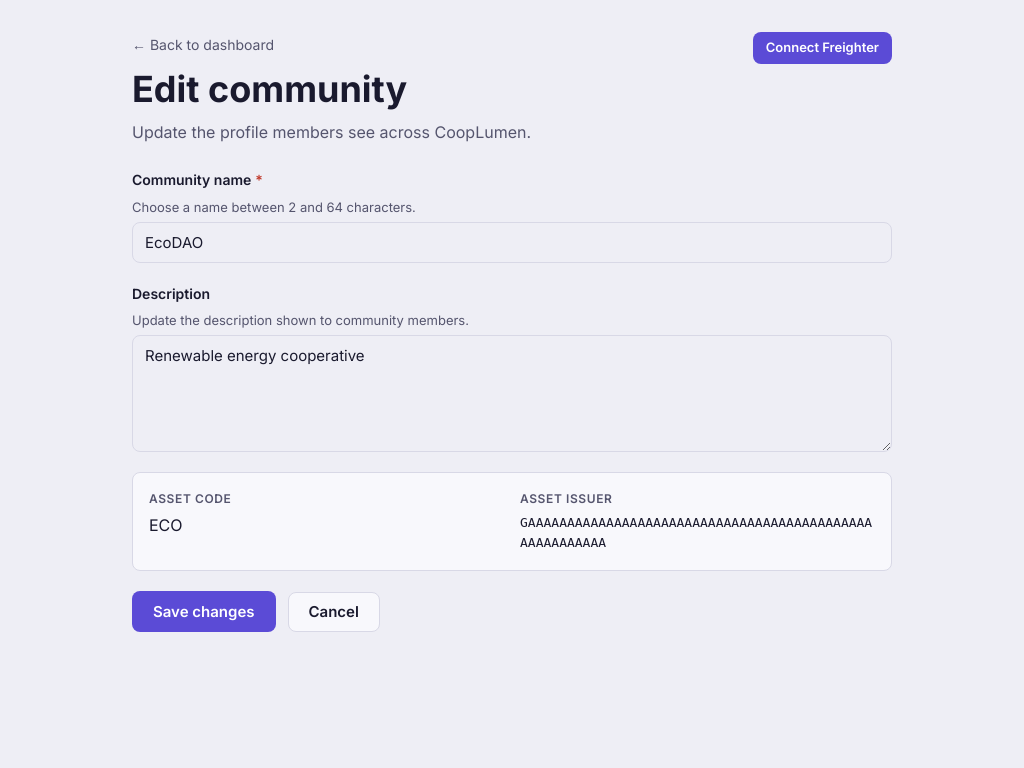
EditCommunityPageClient › loads the nested community response and saves changes through the route id
Replace the text in the field labelled "Community name*" with "EcoDAO 2". click: (512, 242)
box: x1=132 y1=222 x2=892 y2=263
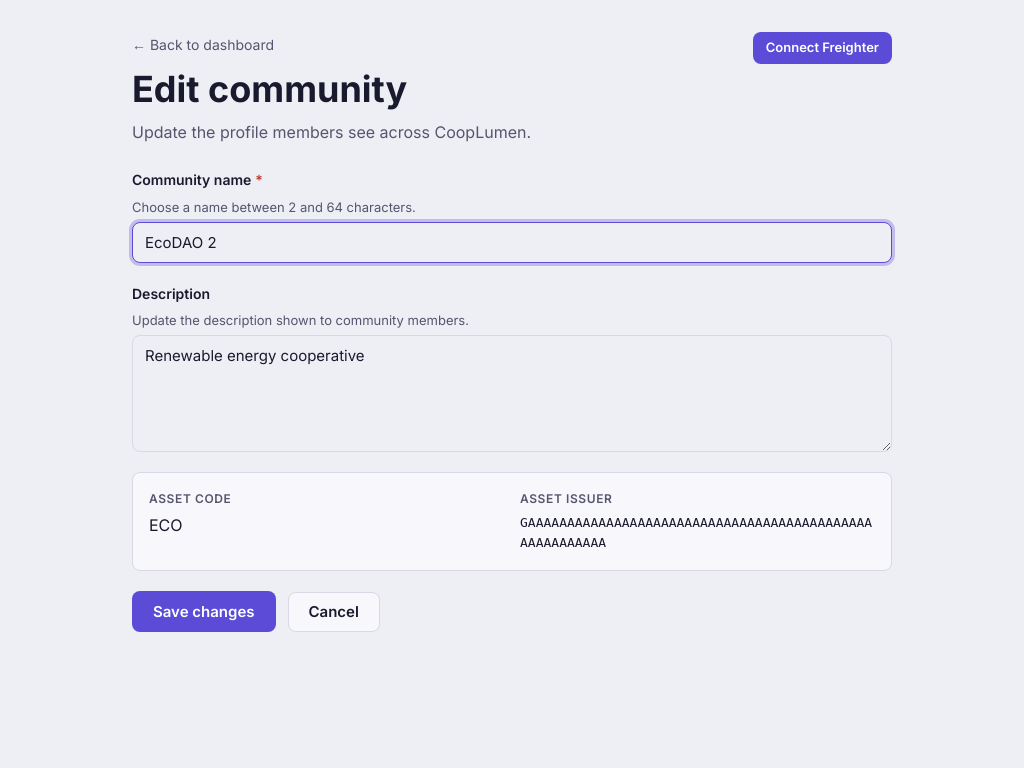
Click the button "Save changes". click: (204, 612)
box: x1=132 y1=591 x2=276 y2=632
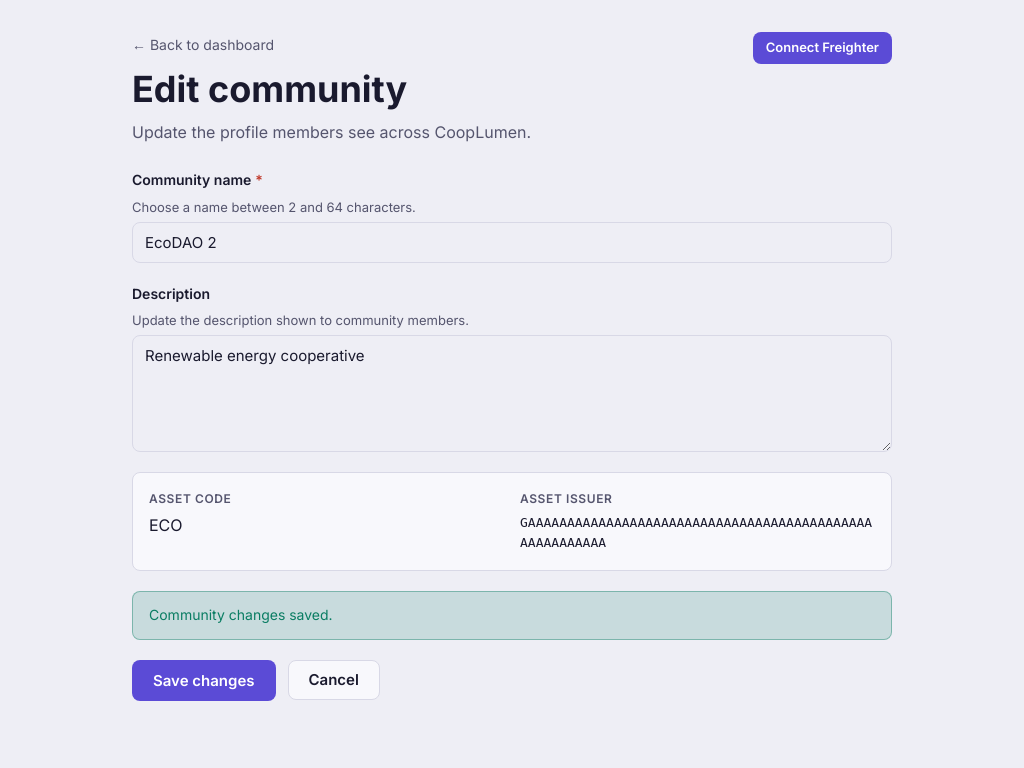
Expected: the text "Community changes saved." is shown, x1=132 y1=591 x2=892 y2=640
